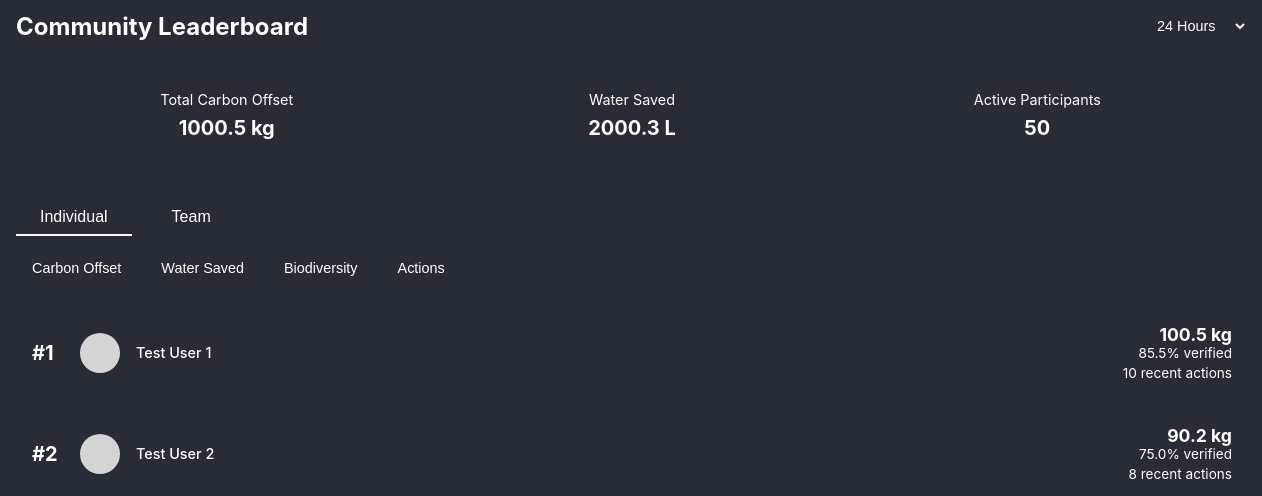
Test case: LeaderboardPanel › switches to team view correctly
Click the button "Team" at x=191, y=218, box [148,200,235,236]
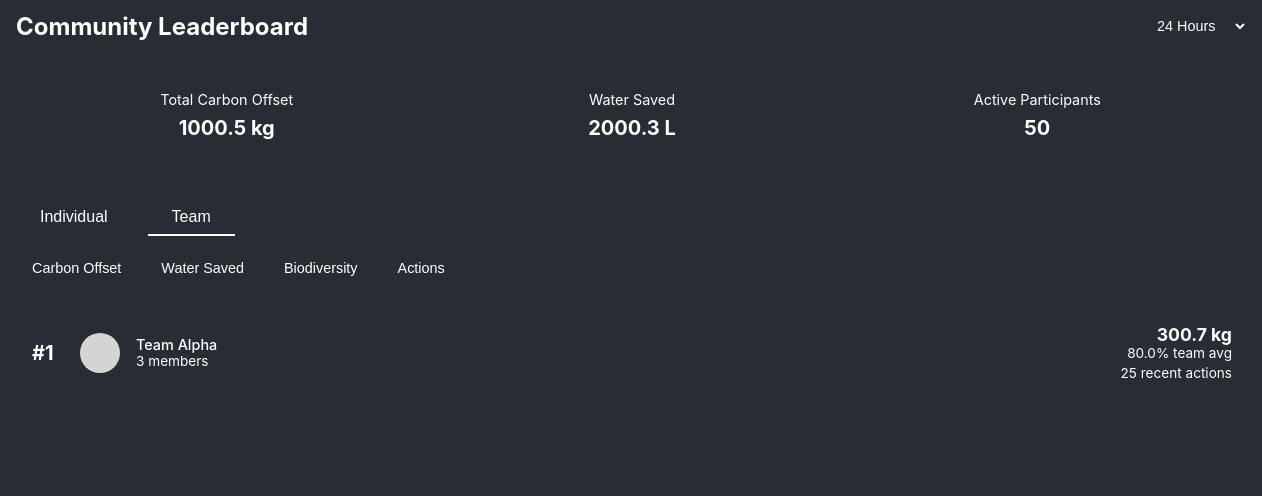
Expected: the text "Team Alpha" is shown, [136,336,217,353]
Expected: the text "3 members" is shown, [136,353,217,369]
Expected: the text "300.7 kg" is shown, [1157,324,1232,345]
